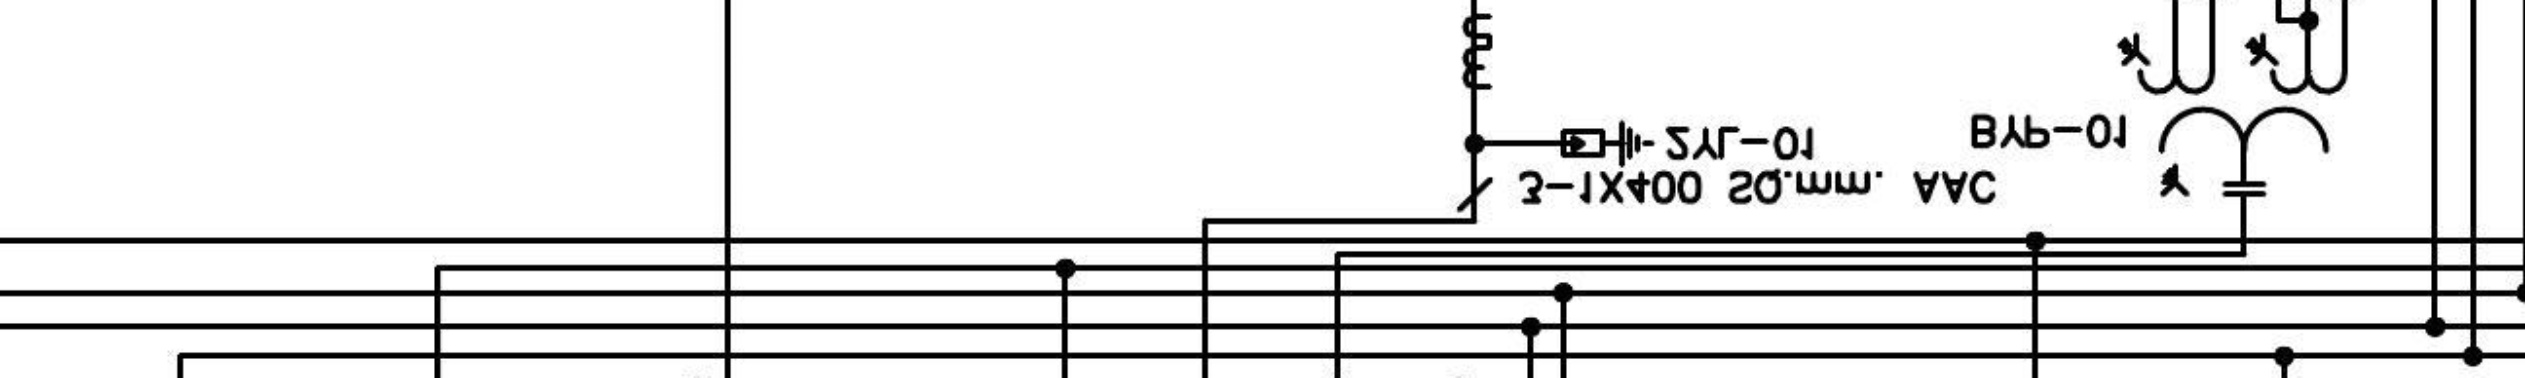115_cvt_3p: (2114, 31, 2349, 198)
115_la: (1560, 119, 1655, 169)
